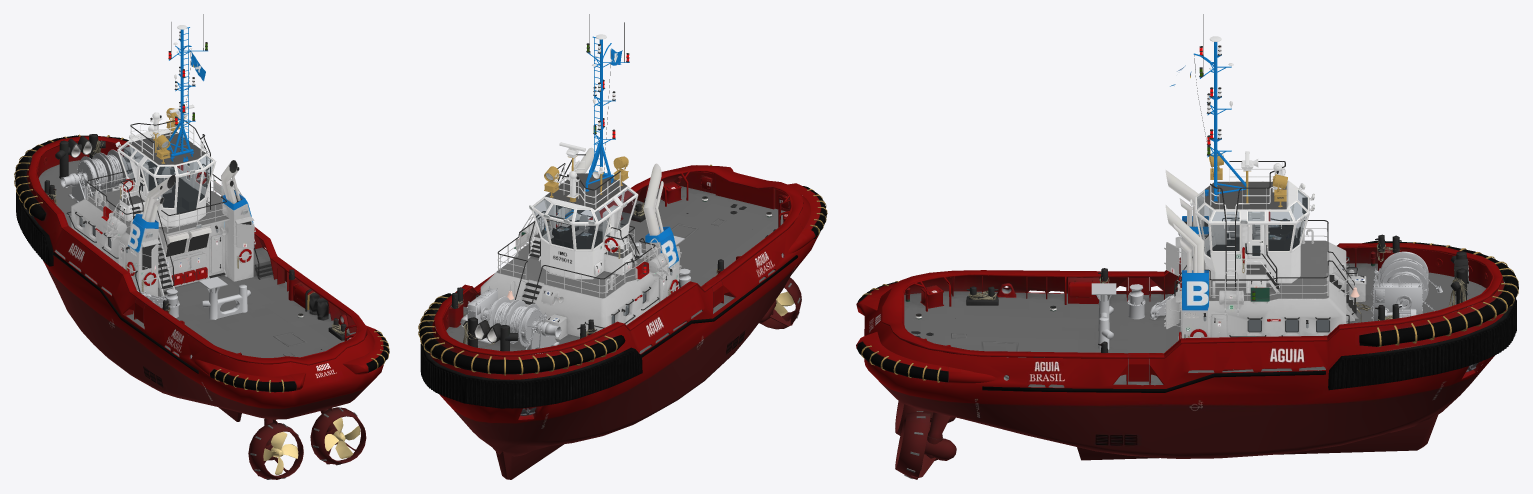
File: tug-asd2810.glb
3 views of the same model, side by side, from view 1: azimuth 30°, elevation 25°; view 2: azimuth 150°, elevation 25°; view 3: azimuth 270°, elevation 25° (orthographic). The views are drawn at different scales.
Parts seen in each view (by area): view 1: Deck_1003_geo, Hool_1002_geo, Middle_cadin_1004_geo, Captain_s_cabin_and_mast_1001_geo, Winch_crane_1005_geo, Glasses_1006_geo; view 2: Hool_1002_geo, Deck_1003_geo, Middle_cadin_1004_geo, Captain_s_cabin_and_mast_1001_geo, Winch_crane_1005_geo, Glasses_1006_geo; view 3: Hool_1002_geo, Deck_1003_geo, Middle_cadin_1004_geo, Captain_s_cabin_and_mast_1001_geo, Winch_crane_1005_geo, Glasses_1006_geo.
Boxes of the visible parts, x1,y1,x2,y2 form: Deck_1003_geo: (14, 134, 389, 479); Hool_1002_geo: (16, 161, 383, 421); Middle_cadin_1004_geo: (66, 160, 255, 301); Captain_s_cabin_and_mast_1001_geo: (115, 14, 216, 226); Winch_crane_1005_geo: (60, 146, 250, 319); Glasses_1006_geo: (80, 141, 247, 252); Hool_1002_geo: (420, 170, 820, 479); Deck_1003_geo: (418, 164, 827, 420); Middle_cadin_1004_geo: (475, 147, 681, 339); Captain_s_cabin_and_mast_1001_geo: (528, 14, 638, 279); Winch_crane_1005_geo: (460, 236, 690, 354); Glasses_1006_geo: (529, 173, 672, 323); Hool_1002_geo: (864, 251, 1516, 460); Deck_1003_geo: (856, 234, 1518, 479); Middle_cadin_1004_geo: (1164, 170, 1366, 339); Captain_s_cabin_and_mast_1001_geo: (1170, 14, 1314, 293); Winch_crane_1005_geo: (1091, 251, 1442, 349); Glasses_1006_geo: (1197, 190, 1328, 331).
Bounding box in the file's own units: 10.24 × 20.77 × 28.59.
6 materials, 4 textured.
